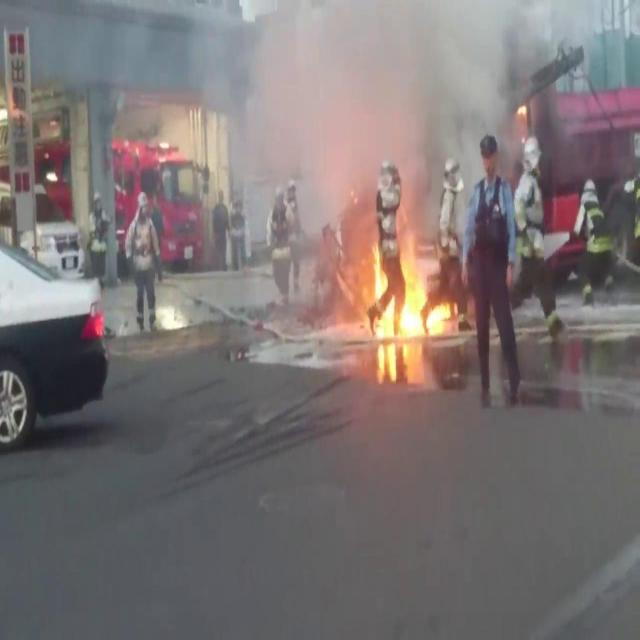Fire: (384, 273, 451, 331), (364, 255, 384, 300)
